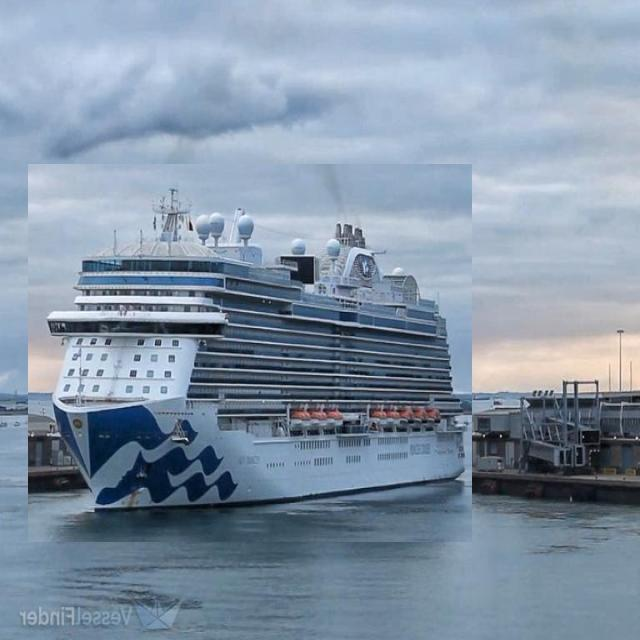PassengerShip: (28, 164, 472, 542)
